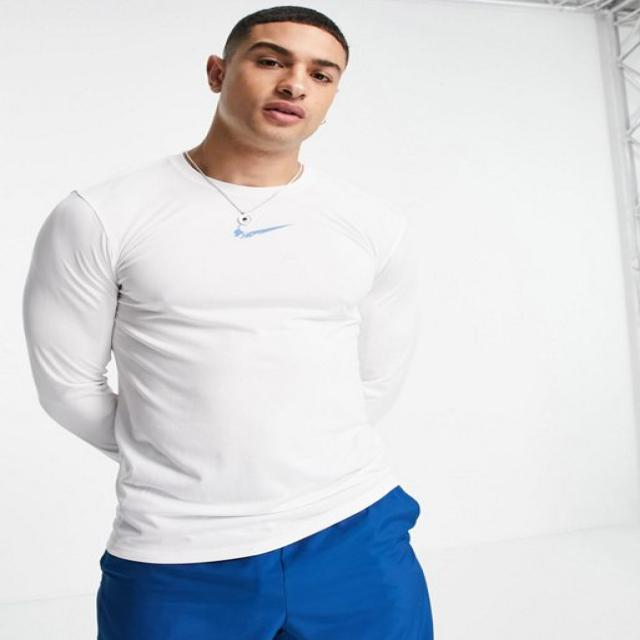tshirt: (24, 150, 422, 563)
